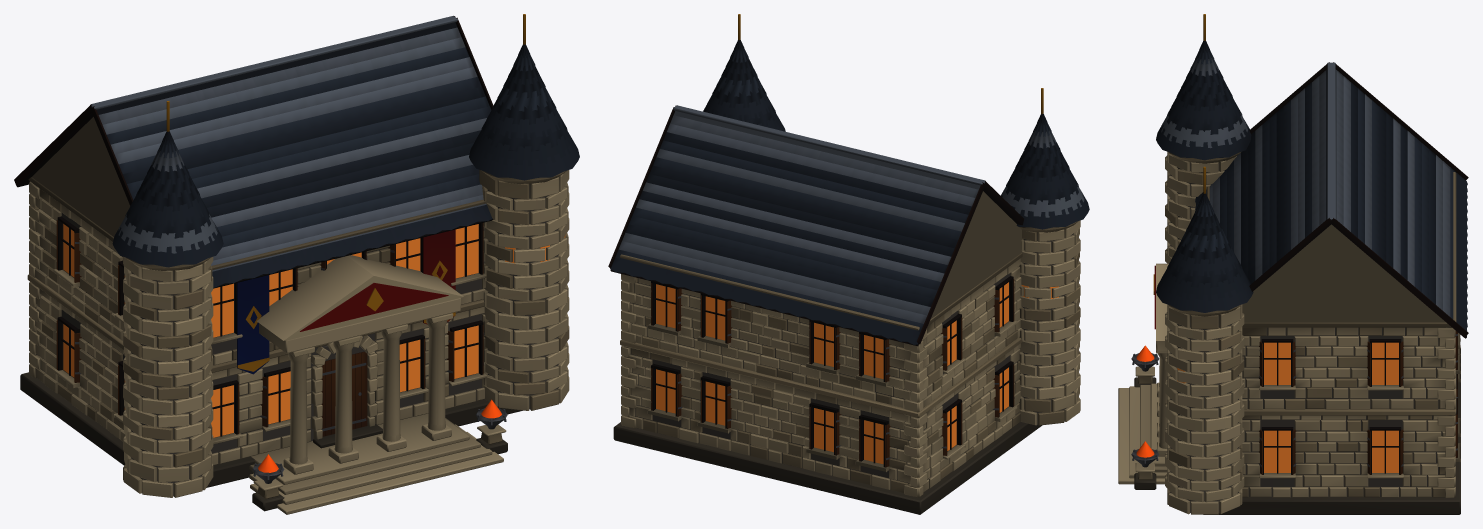
The model's file is Guilda4.fbx.
3 renders of one model, left to right at view 1: azimuth 30°, elevation 25°; view 2: azimuth 150°, elevation 25°; view 3: azimuth 270°, elevation 25°, orthographic. The views are drawn at different scales.
Visible parts, largest first — view 1: Guilda4; view 2: Guilda4; view 3: Guilda4.
Boxes of the visible parts, x1=… form: Guilda4: x1=14, y1=14, x2=579, y2=514; Guilda4: x1=608, y1=14, x2=1089, y2=514; Guilda4: x1=1118, y1=14, x2=1468, y2=514.
Bounding box in the file's own units: 17.02 × 14.2 × 12.98.
